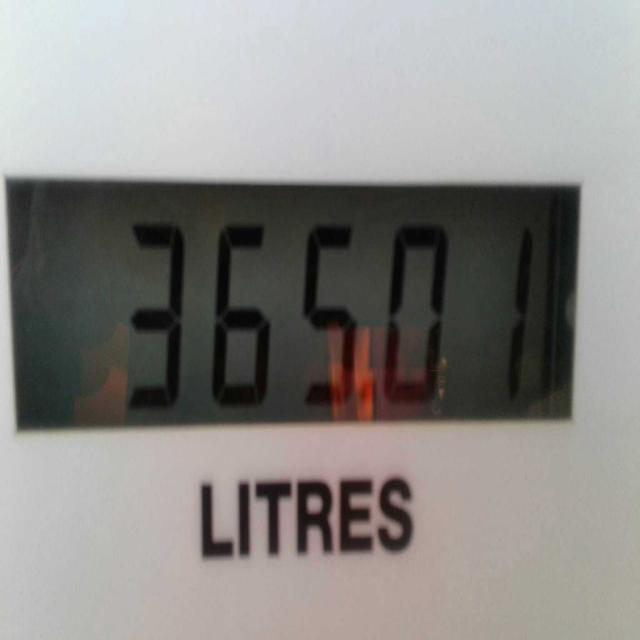.: (358, 380, 378, 407)
0: (379, 224, 448, 406)
1: (502, 226, 541, 410)
3: (126, 218, 189, 409)
5: (293, 222, 361, 404)
6: (208, 222, 272, 412)
screen: (4, 173, 578, 428)
